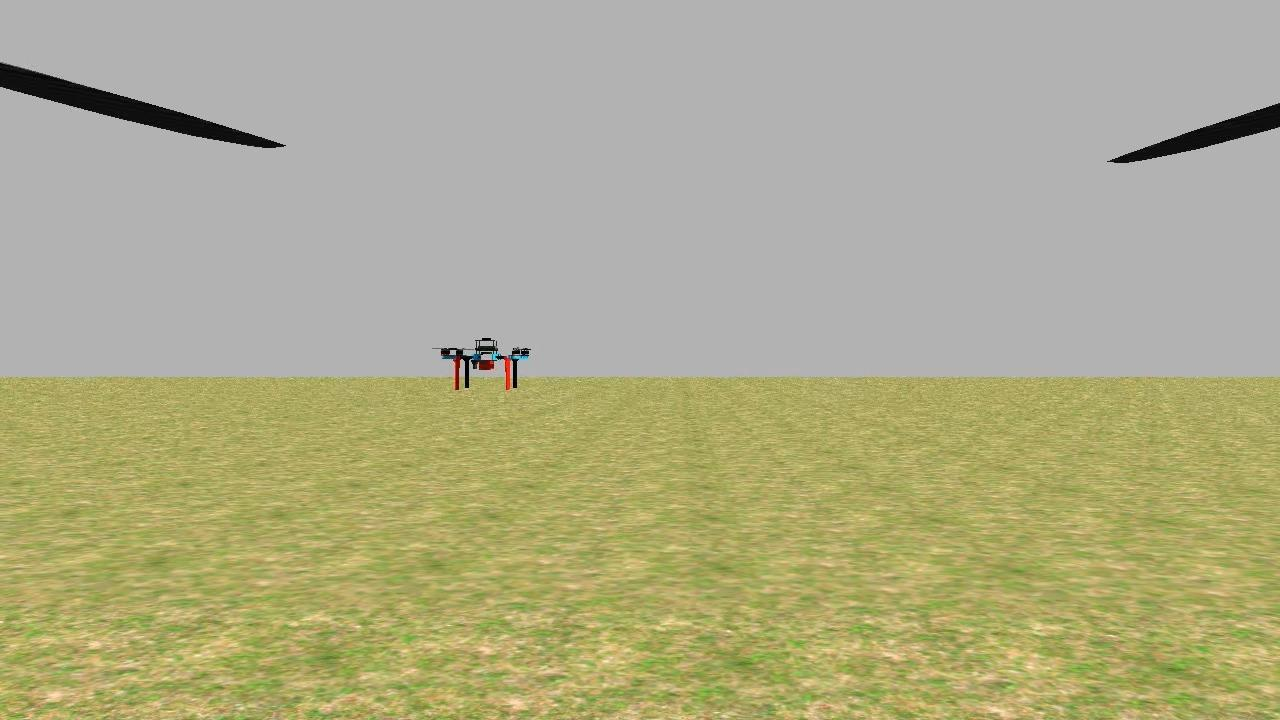UAV: (418, 330, 540, 391)
